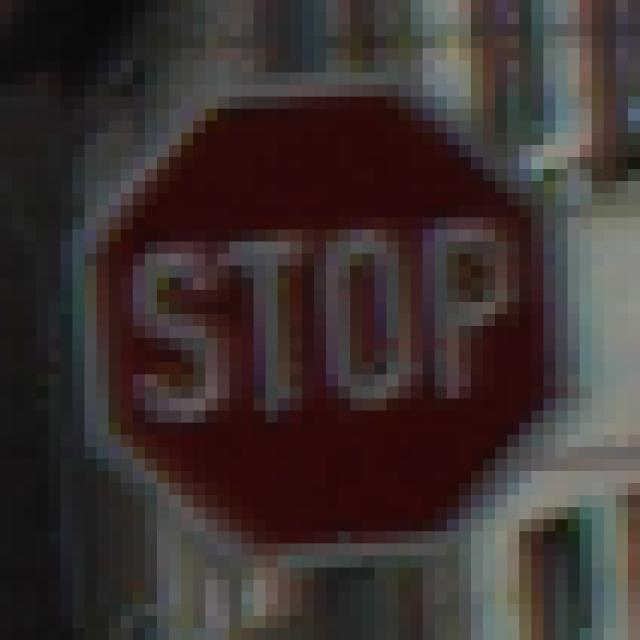STOP: (74, 62, 569, 581)
